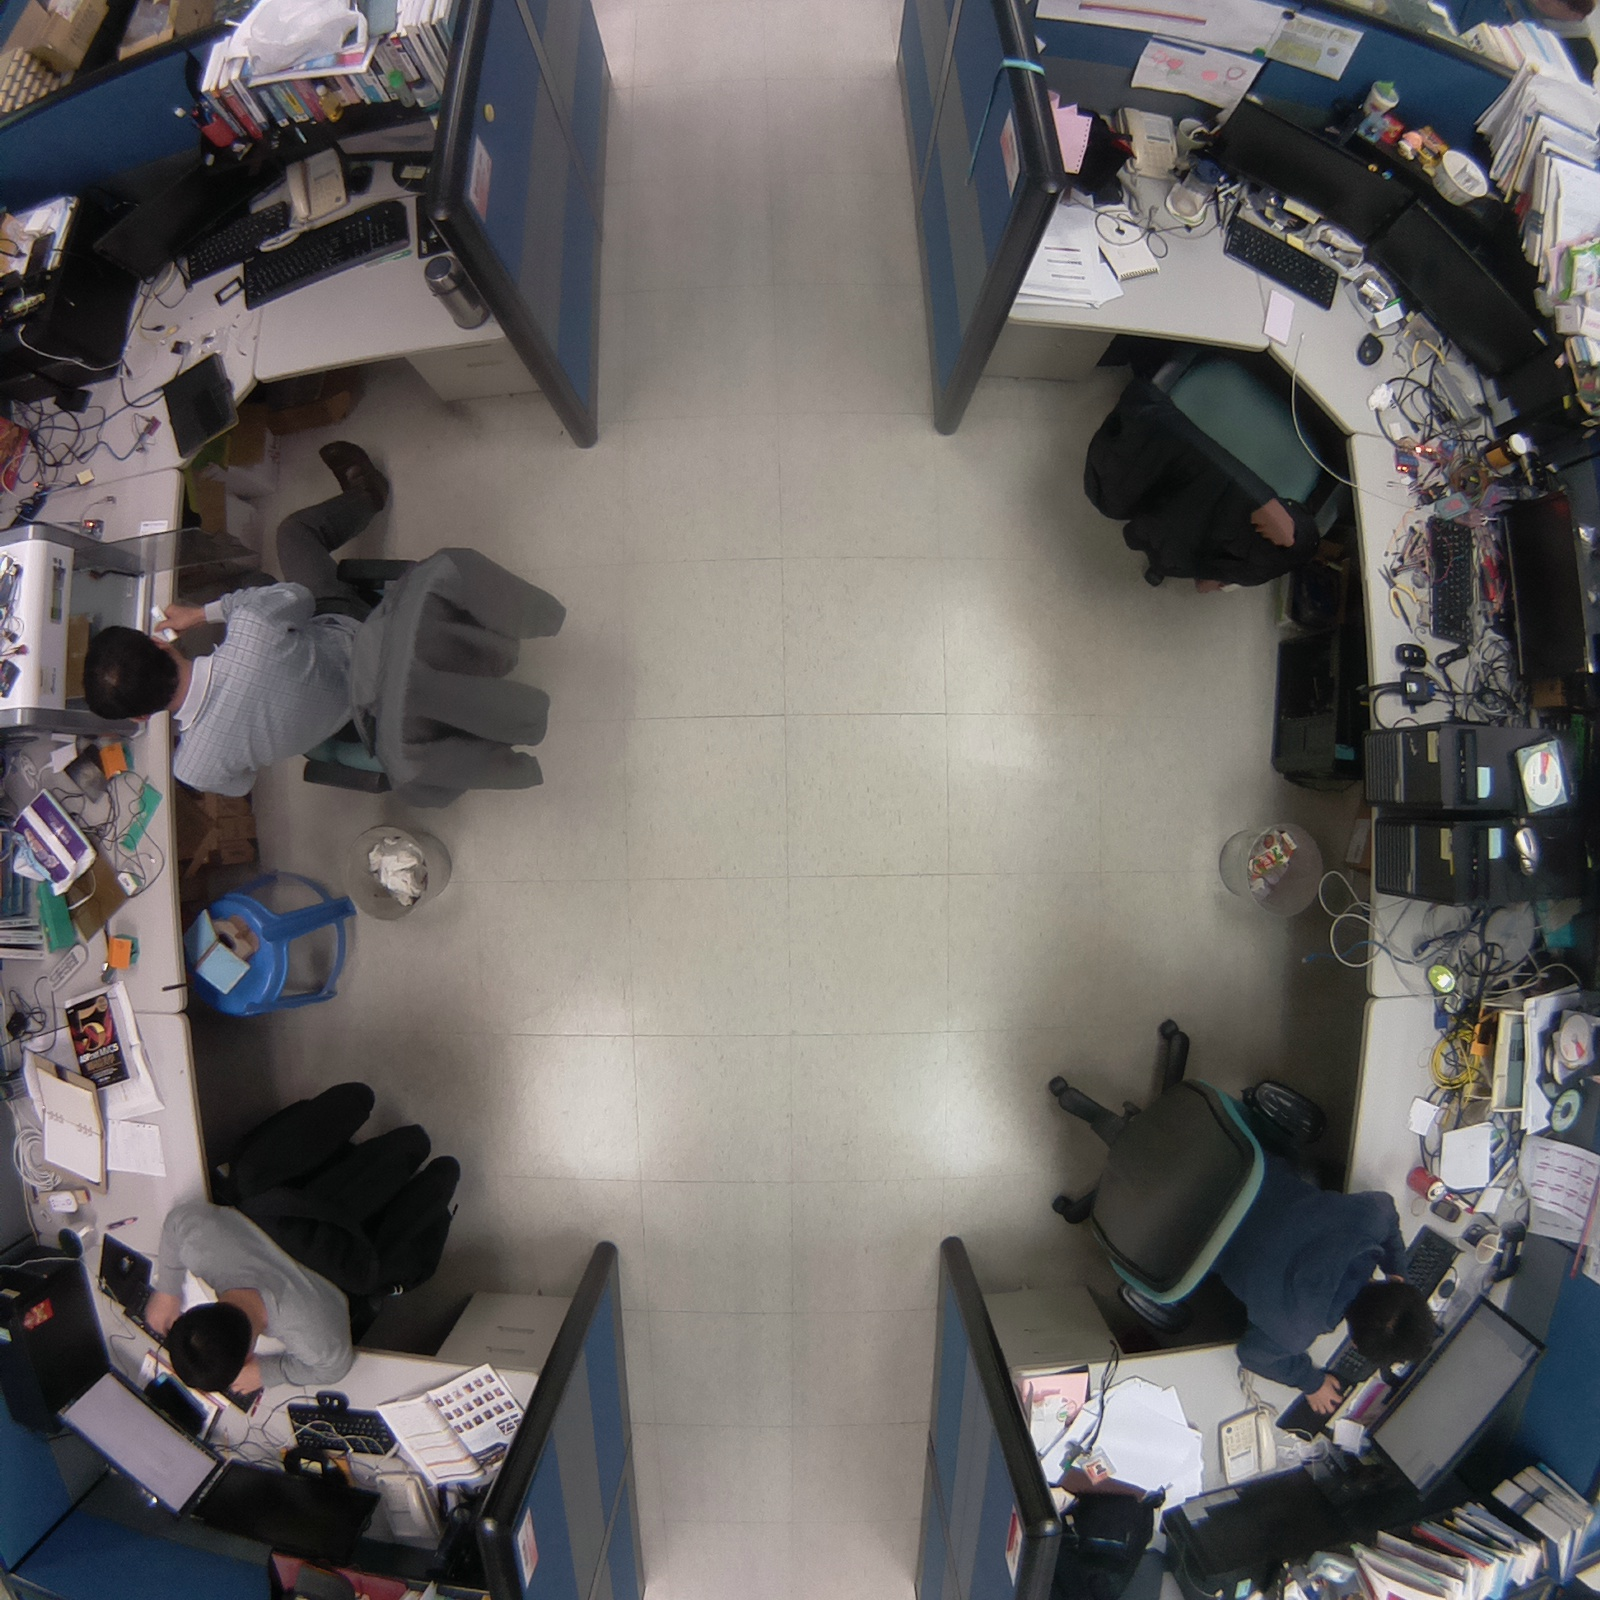chair: (1060, 319, 1360, 606)
head: (78, 617, 183, 727), (1340, 1272, 1444, 1374), (159, 1293, 251, 1400)
sitting: (63, 437, 588, 824), (1012, 1006, 1450, 1414), (142, 1052, 506, 1411)
